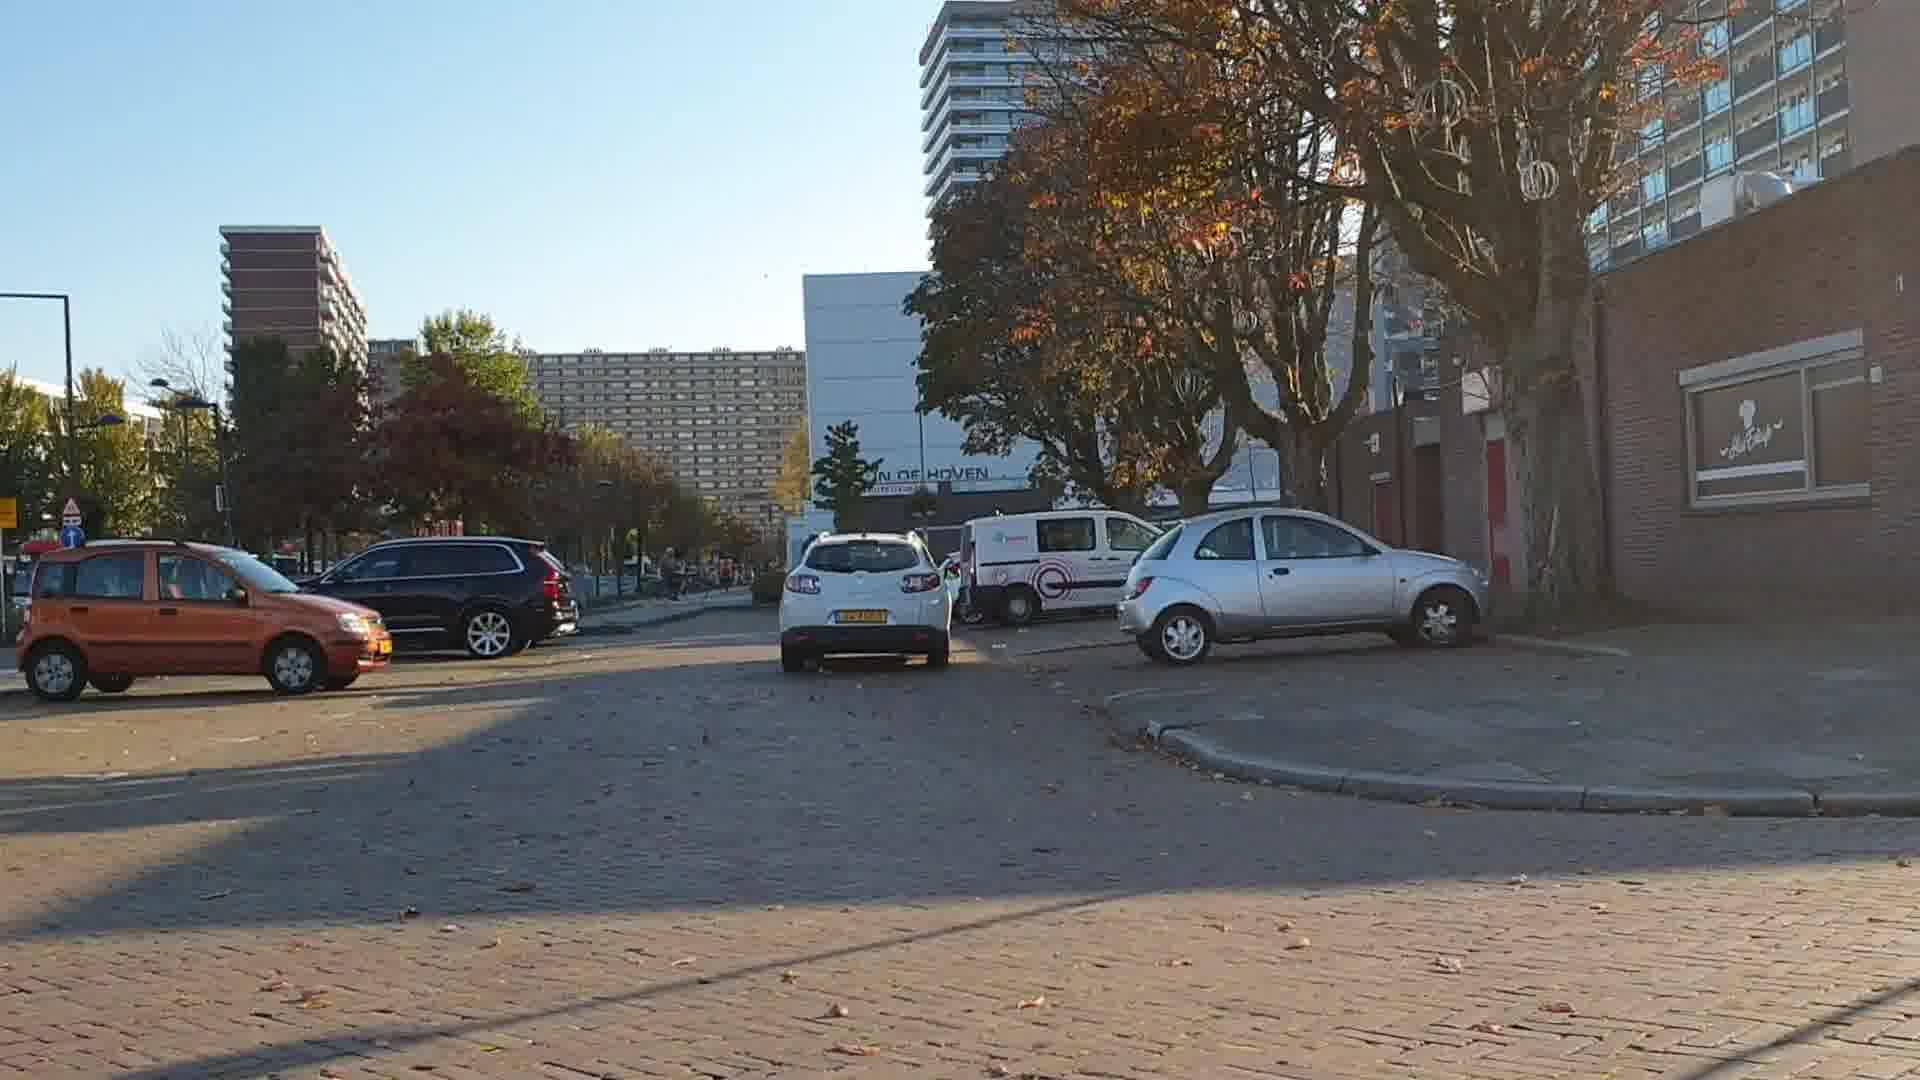car: (1120, 505, 1494, 662), (29, 539, 389, 702), (295, 538, 585, 666), (782, 527, 953, 669)
